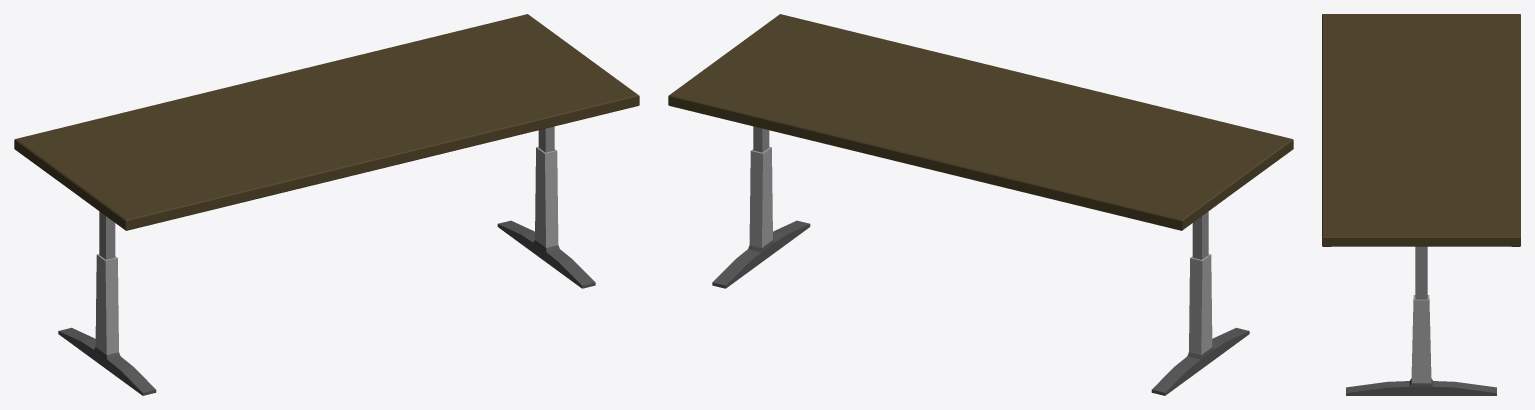
Rendered from Desk.fbx.
The picture shows the model from 3 angles, left to right: view 1: azimuth 30°, elevation 25°; view 2: azimuth 150°, elevation 25°; view 3: azimuth 270°, elevation 25°; orthographic projection. The views are drawn at different scales.
Visible parts, largest first — view 1: Table, TableFeet; view 2: Table, TableFeet; view 3: Table, TableFeet.
Boxes of the visible parts, bbox=[...] form: Table: bbox=[14, 14, 639, 259]; TableFeet: bbox=[58, 147, 595, 395]; Table: bbox=[668, 14, 1293, 259]; TableFeet: bbox=[712, 147, 1249, 395]; Table: bbox=[1322, 14, 1520, 299]; TableFeet: bbox=[1346, 295, 1496, 395].
Bounding box in the file's own units: 241 × 86.44 × 90.48.
